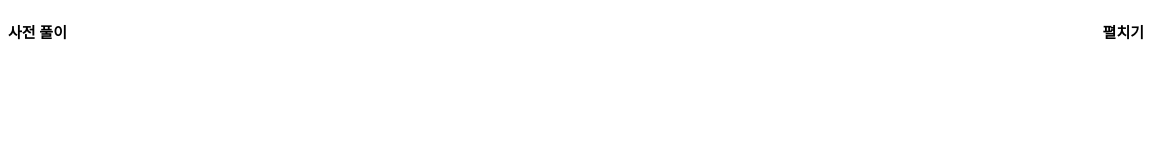
Scenario: DictInline › shows a quiet empty state with only the Naver shortcut when there is no entry
Click the button "사전 풀이 펼치기".
click(37, 33)  # box [8,9,1144,57]
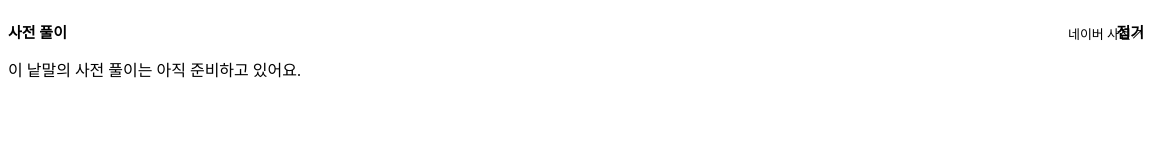
Expected: the text "이 낱말의 사전 풀이는 아직 준비하고 있어요." is shown, [8,62,301,79]
